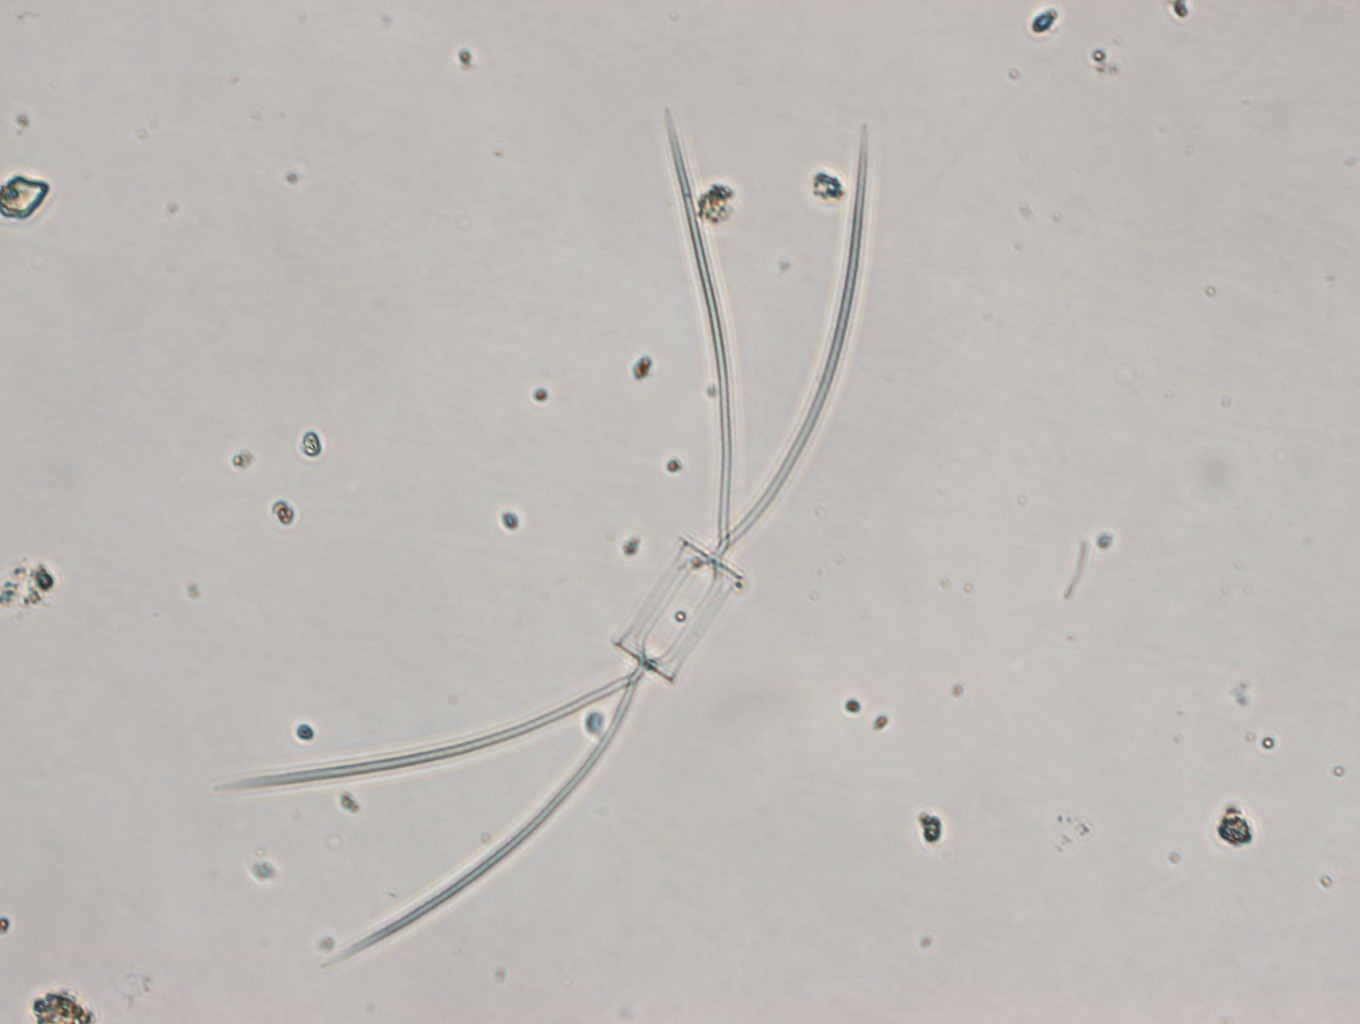chaetoceros: (210, 102, 872, 959)
